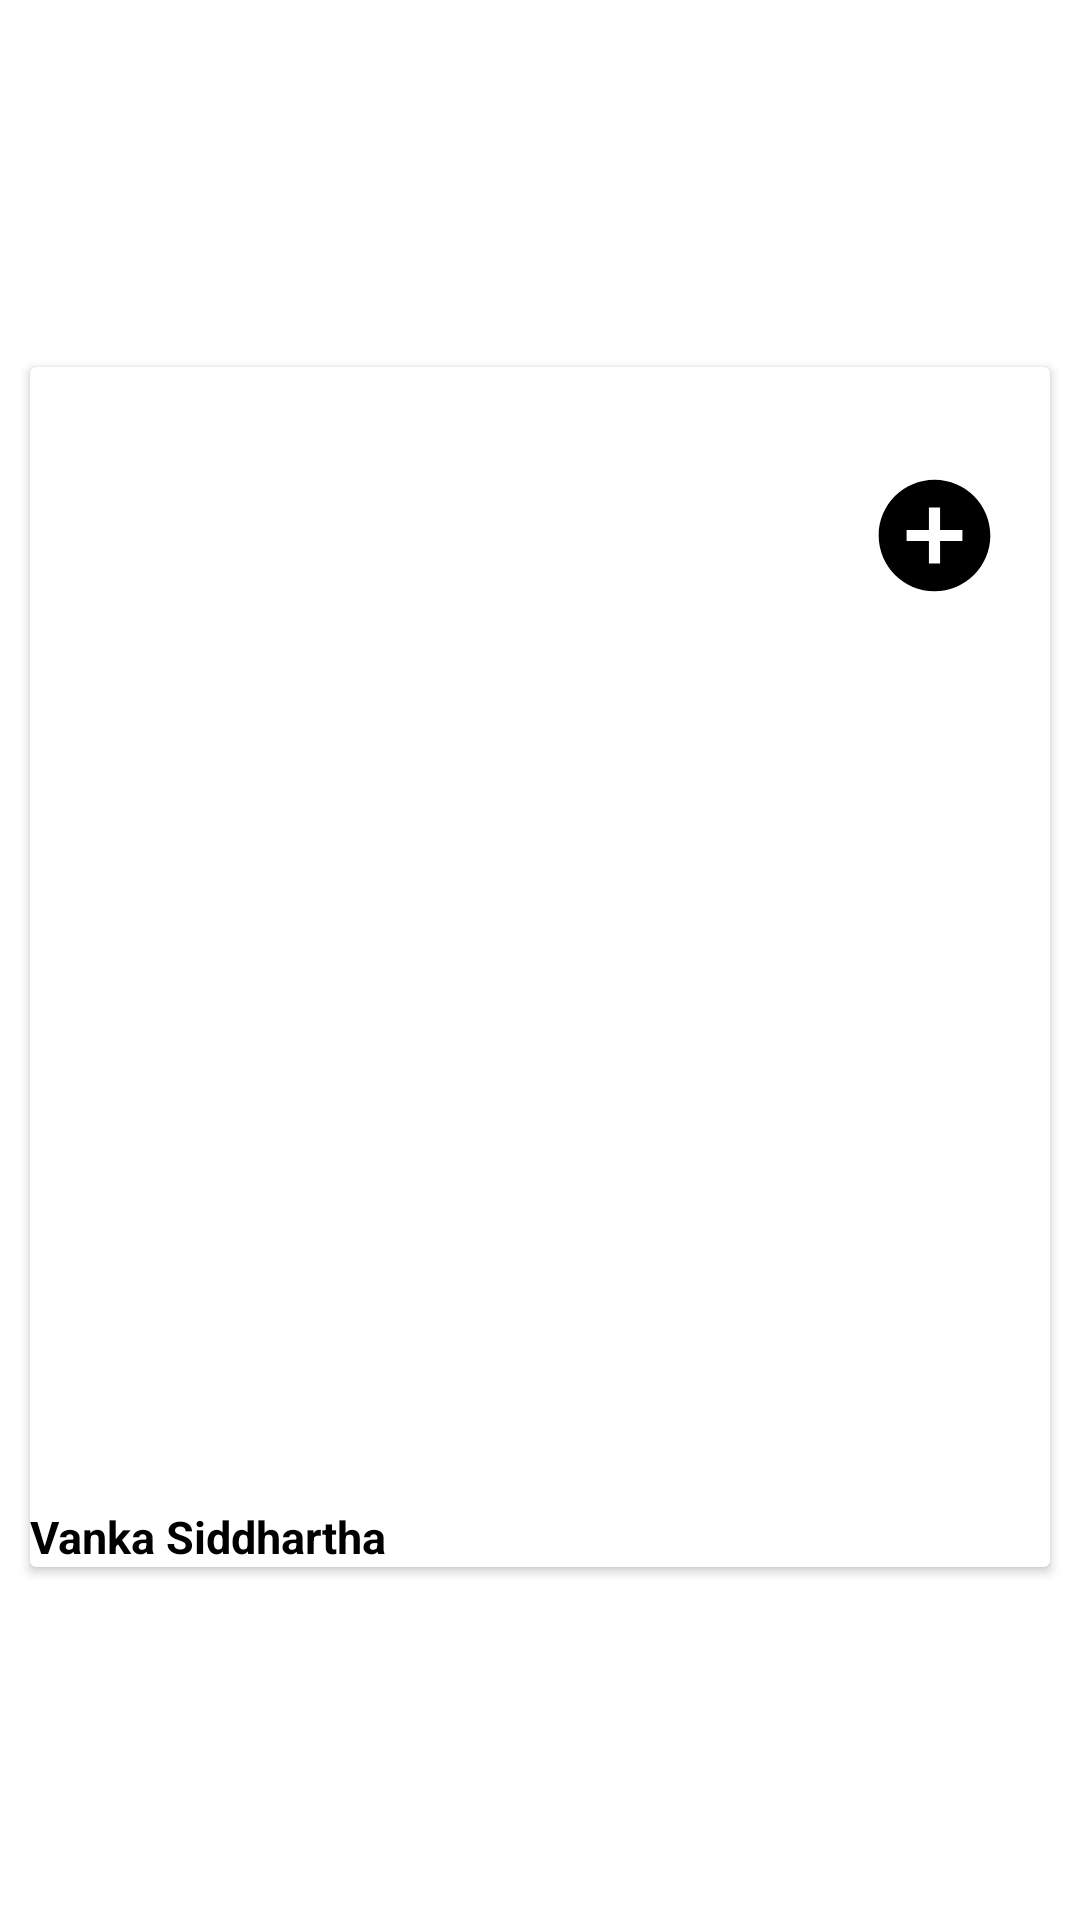

Point at icon controls on the screen. Image size 1080x1920, points as [x,y].
add friend: [934,535]
